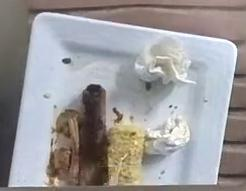ribs: (50, 84, 106, 184)
